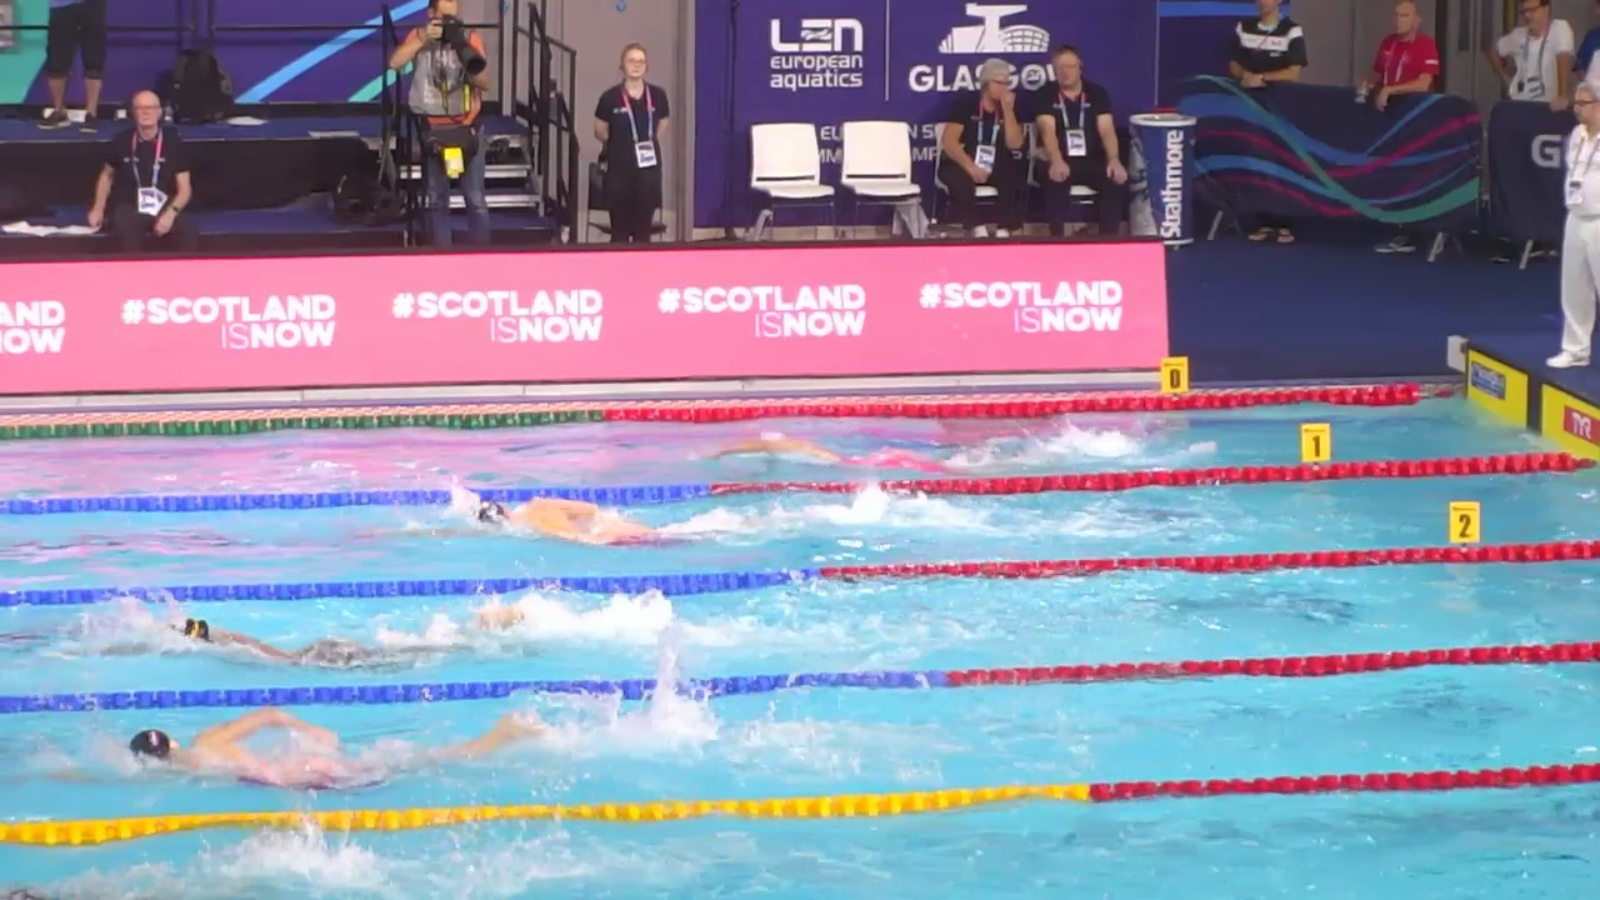swimmerw: (130, 707, 549, 787), (162, 611, 465, 668), (465, 496, 703, 553), (705, 427, 962, 471)
